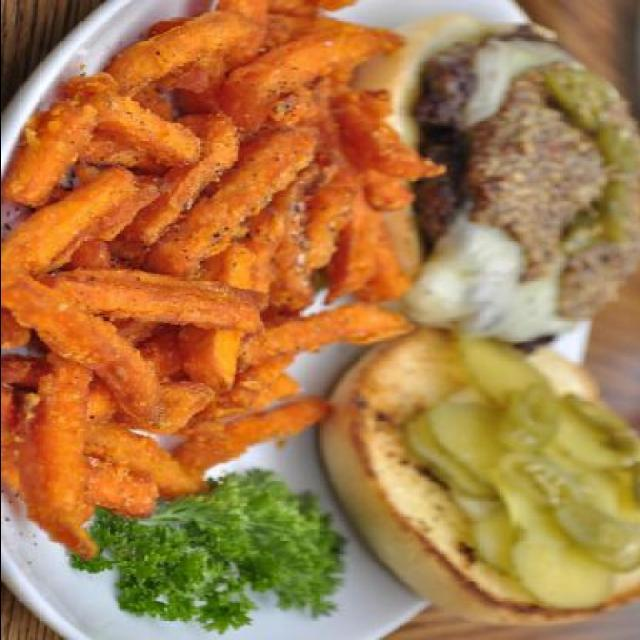Potato: (0, 0, 453, 561), (107, 0, 276, 108)
